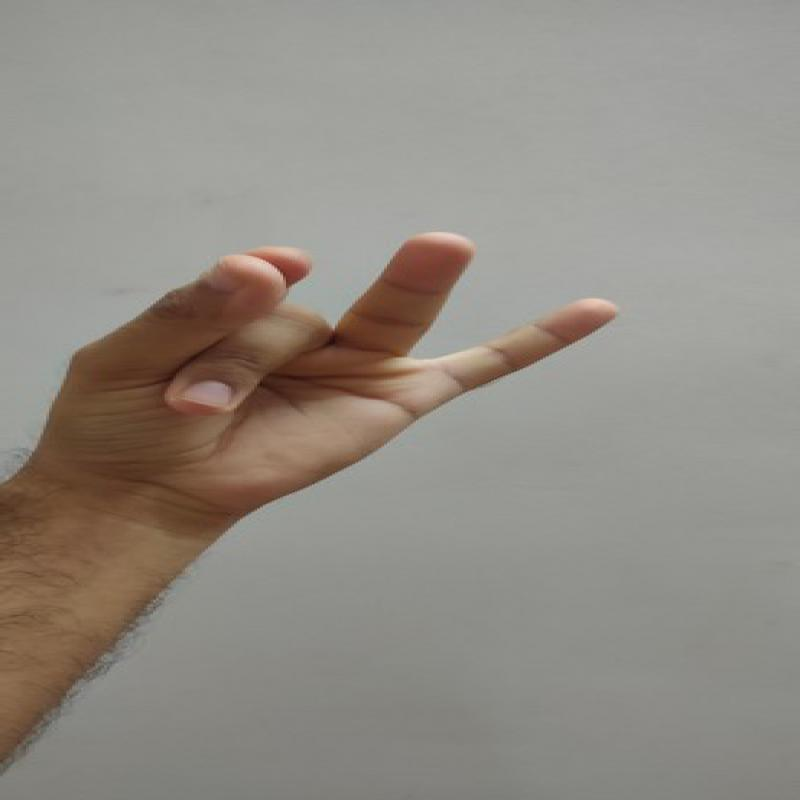Katakam: (19, 224, 629, 521)
